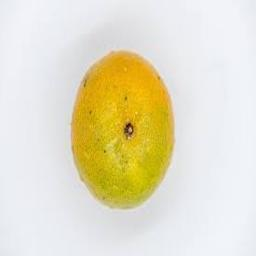Orange Fresh: (69, 49, 181, 210)
